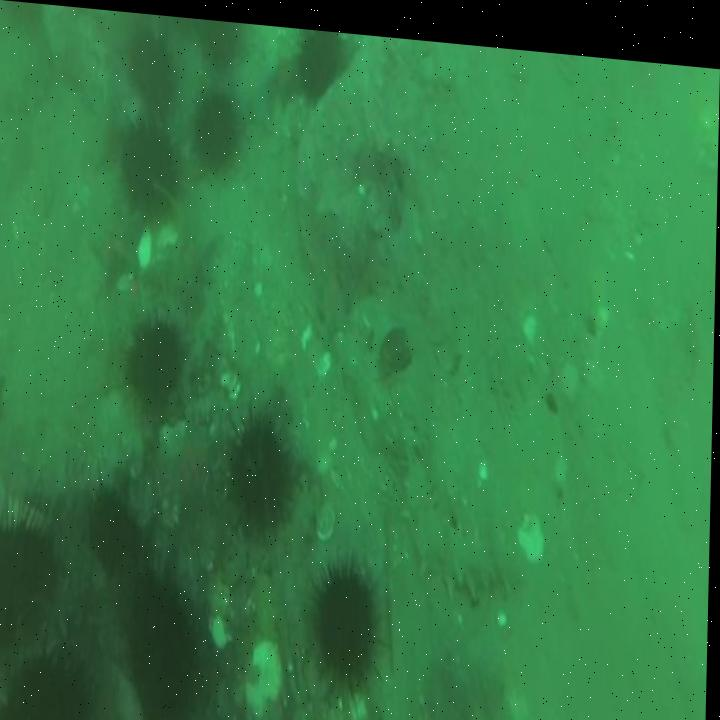echinus: (131, 573, 198, 700), (318, 556, 378, 680), (0, 521, 56, 650), (229, 413, 292, 524), (120, 120, 174, 218), (127, 316, 184, 407), (9, 656, 84, 720), (87, 486, 139, 575), (123, 31, 174, 109), (191, 86, 239, 164), (301, 24, 339, 100), (198, 17, 237, 66)
holothurian: (406, 446, 520, 593)
scallop: (317, 496, 339, 540)
starfish: (171, 414, 222, 504), (91, 205, 142, 292), (176, 222, 219, 282), (317, 268, 351, 331), (270, 44, 302, 96)
